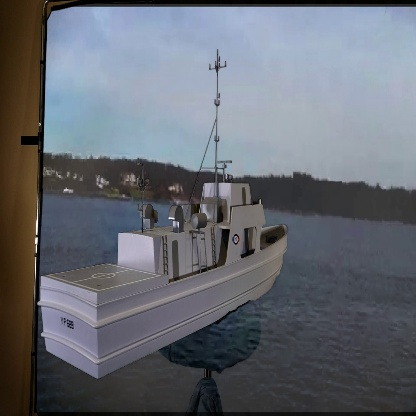YP689: (38, 46, 295, 378)
